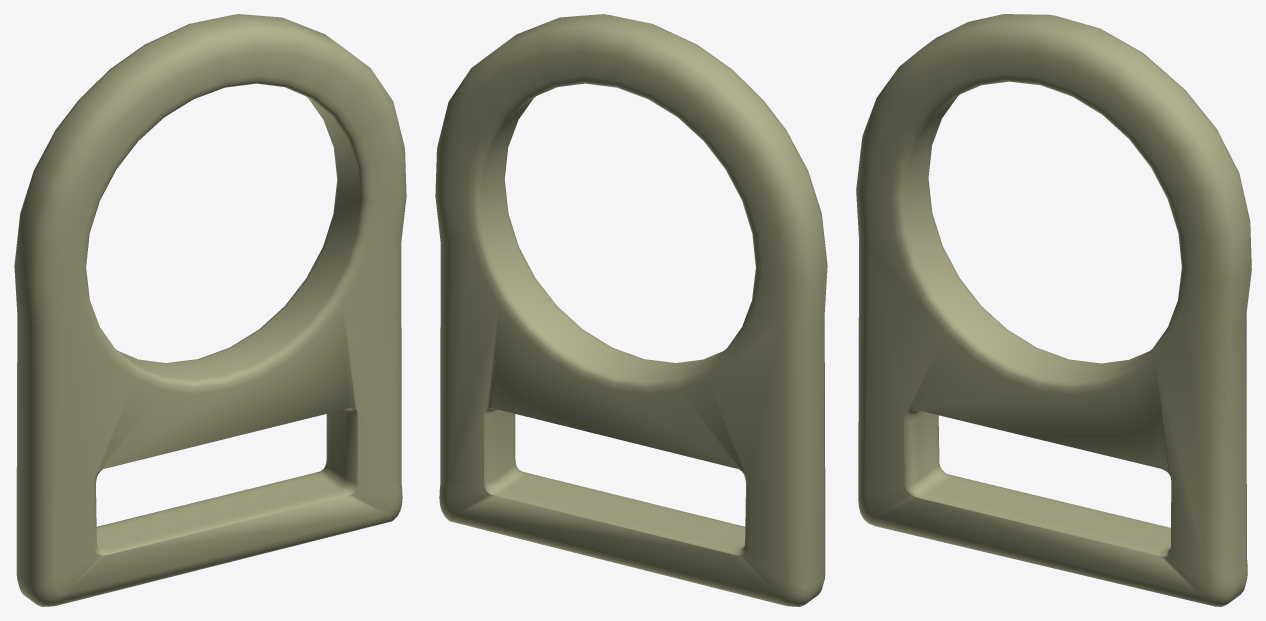
3 renders of one model, left to right at view 1: azimuth 30°, elevation 25°; view 2: azimuth 150°, elevation 25°; view 3: azimuth 330°, elevation 25°, orthographic.
Visible parts, largest first — view 1: SM_DR_002; view 2: SM_DR_002; view 3: SM_DR_002.
Part boxes in pixels (x1,y1,x2,y2): SM_DR_002: [14, 14, 406, 606]; SM_DR_002: [435, 14, 827, 606]; SM_DR_002: [856, 14, 1251, 606].
Size of the model in its own units: 0.6248 by 0.8461 by 0.0903.
